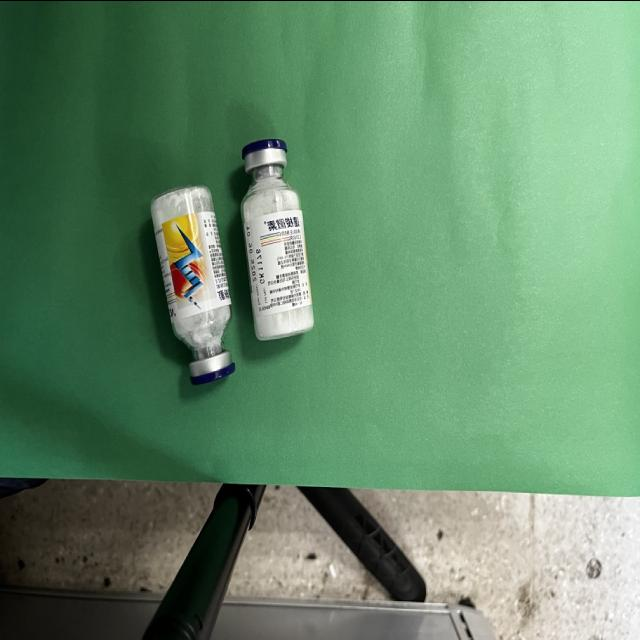Vials: (150, 184, 235, 385), (240, 137, 314, 340)
